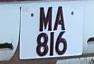1: (48, 31, 56, 59)
6: (55, 30, 69, 58)
8: (35, 31, 50, 59)
A: (52, 4, 68, 33)
M: (37, 4, 53, 34)
